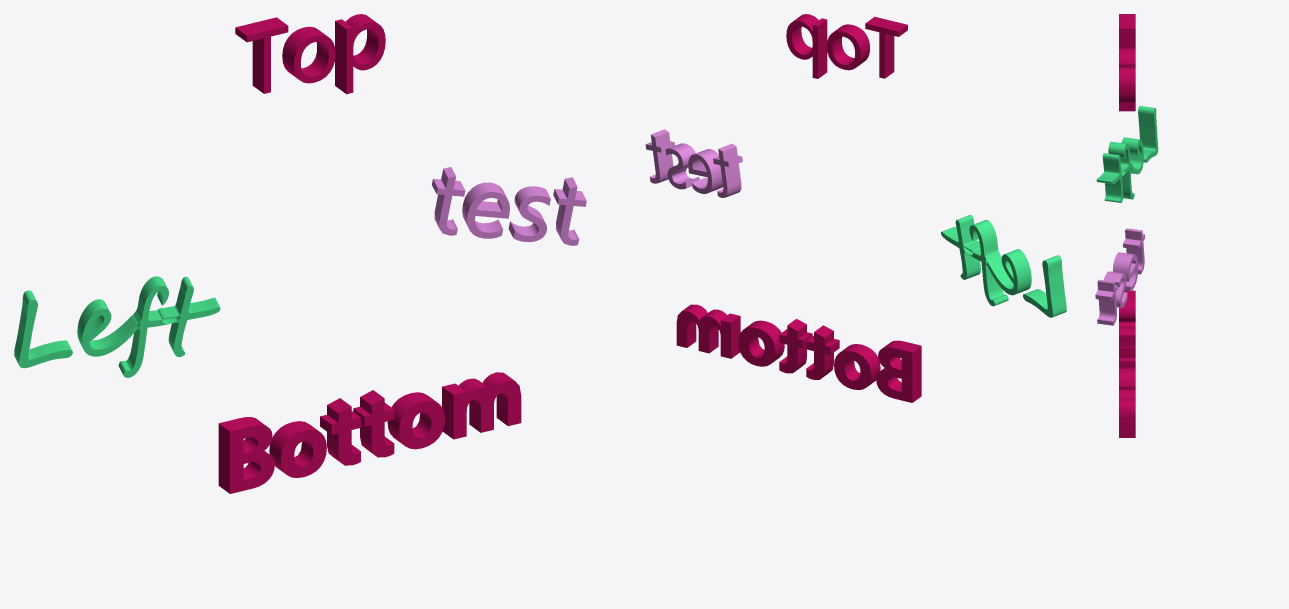
3 renders of one model, left to right at view 1: azimuth 30°, elevation 25°; view 2: azimuth 150°, elevation 25°; view 3: azimuth 270°, elevation 25°, orthographic. The views are drawn at different scales.
Parts seen in each view (by area): view 1: mesh_id75, mesh_id82, mesh_id68, mesh_id53; view 2: mesh_id75, mesh_id82, mesh_id68, mesh_id53; view 3: mesh_id82, mesh_id53, mesh_id75, mesh_id68.
Boxes of the visible parts, <box> form: mesh_id75: <box>218,372,521,493</box>; mesh_id82: <box>14,276,220,377</box>; mesh_id68: <box>235,14,385,94</box>; mesh_id53: <box>432,167,586,245</box>; mesh_id75: <box>676,304,921,402</box>; mesh_id82: <box>941,215,1066,317</box>; mesh_id68: <box>786,14,907,78</box>; mesh_id53: <box>645,129,742,197</box>; mesh_id82: <box>1096,106,1158,202</box>; mesh_id53: <box>1095,228,1145,325</box>; mesh_id75: <box>1119,290,1135,437</box>; mesh_id68: <box>1119,14,1135,111</box>.
Bounding box in the file's own units: 0.4062 × 0.4885 × 0.1615.
